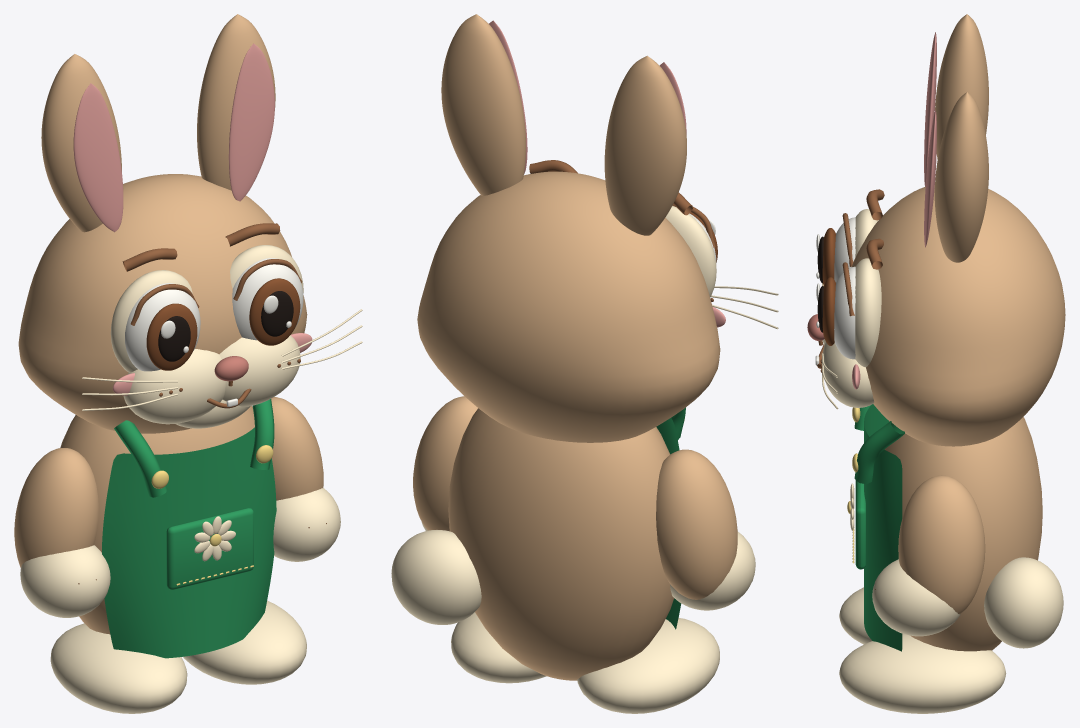
The model's file is bunny-chef-v15.glb.
3 renders of one model, left to right at view 1: azimuth 30°, elevation 25°; view 2: azimuth 150°, elevation 25°; view 3: azimuth 270°, elevation 25°, orthographic. The views are drawn at different scales.
Parts seen in each view (by area): view 1: Bunny_Emerald linen, Sculpted head, Bunny_Cream muzzle, HeadRig_Cream muzzle, Soft arm, Tapered ear, Tapered ear.001, Body, Inner ear.001, Inner ear, Paw, Soft arm.001 (+11 smaller); view 2: Sculpted head, Body, Bunny_Cream muzzle, Tapered ear.001, Tapered ear, Soft arm, Soft arm.001, HeadRig_Cream muzzle, Paw, HeadRig_Brows and smile, Bunny_Emerald linen; view 3: Sculpted head, Bunny_Cream muzzle, Body, Soft arm.001, Bunny_Emerald linen, Tapered ear.001, HeadRig_Cream muzzle, Tapered ear, Paw.001, EyeRightRig_Eye whites, HeadRig_Brows and smile, Inner ear.001 (+4 smaller).
Part boxes in pixels (box(x1,y1,x2,y2)): Bunny_Emerald linen: box(102, 399, 276, 658); Sculpted head: box(18, 174, 307, 433); Bunny_Cream muzzle: box(50, 516, 306, 713); HeadRig_Cream muzzle: box(82, 245, 362, 428); Soft arm: box(14, 448, 98, 567); Tapered ear: box(41, 54, 121, 232); Tapered ear.001: box(197, 14, 275, 190); Body: box(60, 406, 254, 634); Inner ear.001: box(228, 43, 274, 201); Inner ear: box(73, 83, 123, 232); Paw: box(20, 545, 110, 617); Soft arm.001: box(252, 397, 323, 500); Sculpted head: box(417, 171, 720, 442); Body: box(448, 408, 673, 680); Bunny_Cream muzzle: box(391, 530, 719, 713); Tapered ear.001: box(441, 14, 525, 195); Tapered ear: box(604, 55, 686, 235); Soft arm: box(656, 449, 737, 599); Soft arm.001: box(413, 396, 477, 531); HeadRig_Cream muzzle: box(665, 206, 778, 329); Paw: box(670, 531, 755, 610); HeadRig_Brows and smile: box(529, 160, 715, 301); Bunny_Emerald linen: box(656, 407, 685, 629); Sculpted head: box(851, 185, 1065, 446); Bunny_Cream muzzle: box(839, 483, 1063, 713); Body: box(884, 417, 1042, 651); Soft arm.001: box(898, 475, 985, 614); Bunny_Emerald linen: box(854, 404, 904, 651); Tapered ear.001: box(934, 92, 988, 262); HeadRig_Cream muzzle: box(821, 209, 881, 409); Tapered ear: box(935, 14, 988, 158); Paw.001: box(872, 559, 960, 636); EyeRightRig_Eye whites: box(816, 266, 855, 359); HeadRig_Brows and smile: box(817, 189, 884, 372); Inner ear.001: box(924, 110, 936, 247).
Bounding box in the file's own units: 2 × 3.95 × 1.48.
